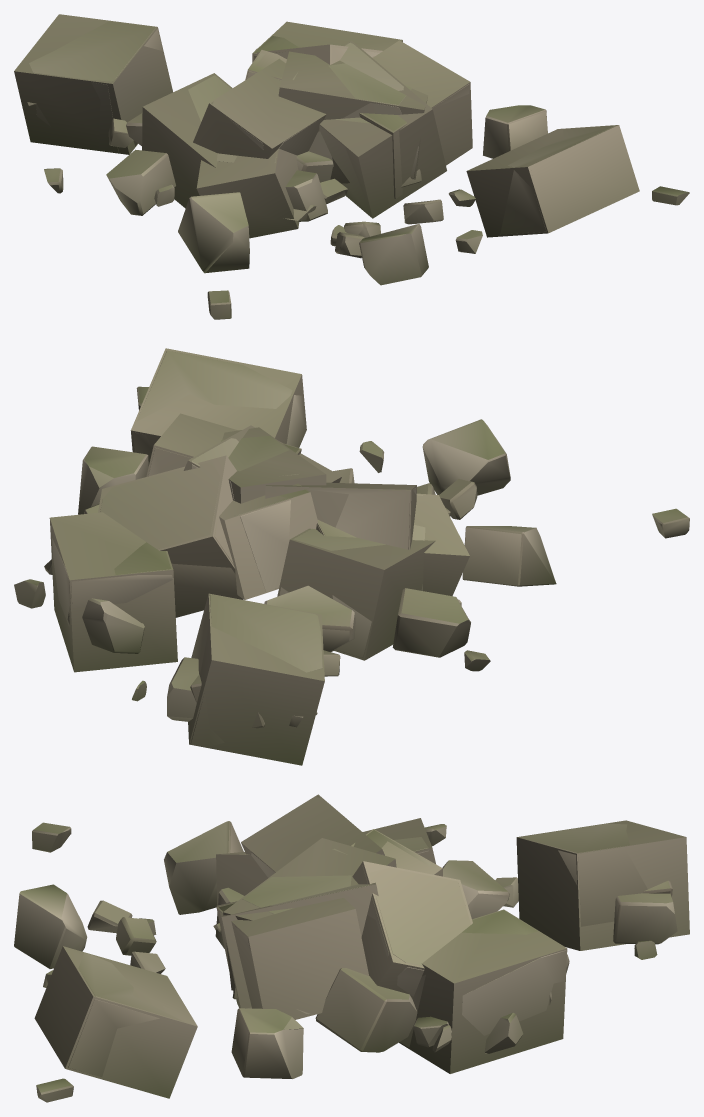
The model's file is baths_rubble.glb.
3 renders of one model, top to bottom at view 1: azimuth 30°, elevation 25°; view 2: azimuth 150°, elevation 25°; view 3: azimuth 270°, elevation 25°, orthographic. The views are drawn at different scales.
Visible parts, largest first — view 1: baths_rubble_far, baths_rubble; view 2: baths_rubble, baths_rubble_far; view 3: baths_rubble_far, baths_rubble.
Boxes of the visible parts, <box> form: baths_rubble_far: <box>14,14,639,238</box>; baths_rubble: <box>27,21,689,319</box>; baths_rubble: <box>14,350,689,746</box>; baths_rubble_far: <box>49,348,469,765</box>; baths_rubble_far: <box>34,794,689,1098</box>; baths_rubble: <box>14,795,677,1102</box>.
Bounding box in the file's own units: 18.04 × 5 × 19.33.
